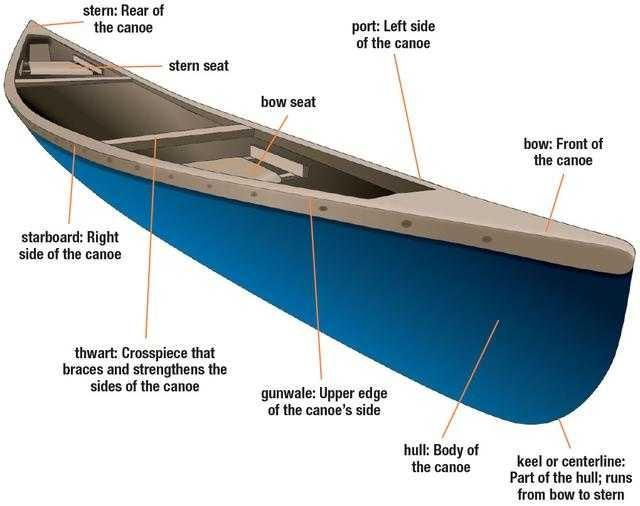kayak: (0, 23, 639, 452)
